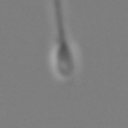normal: (45, 1, 72, 41)
